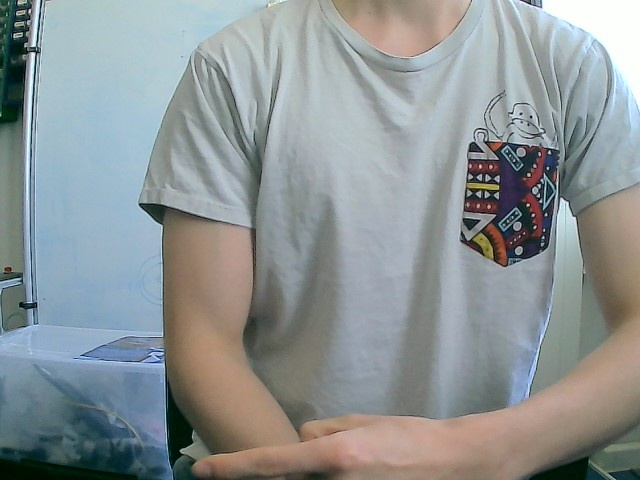right: (189, 412, 464, 479)
